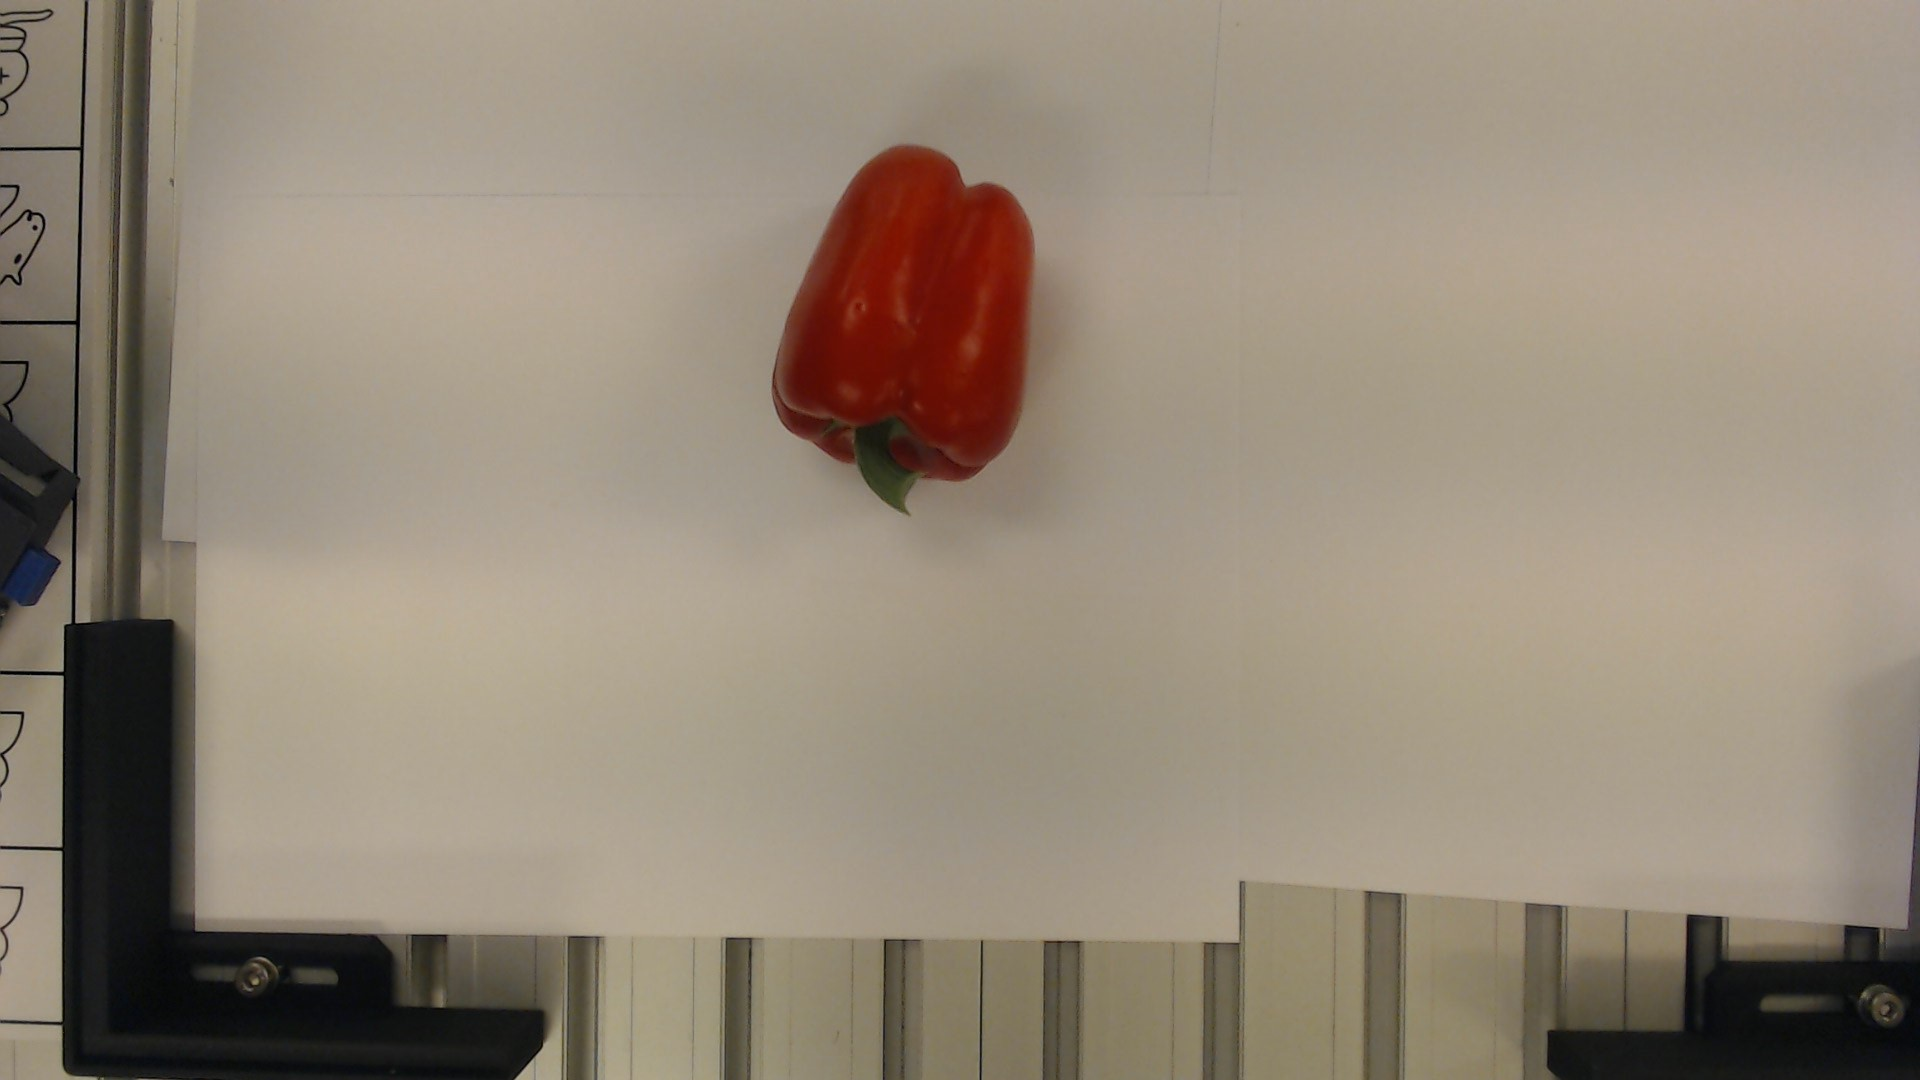Red Bell Pepper: (756, 127, 1042, 518)
